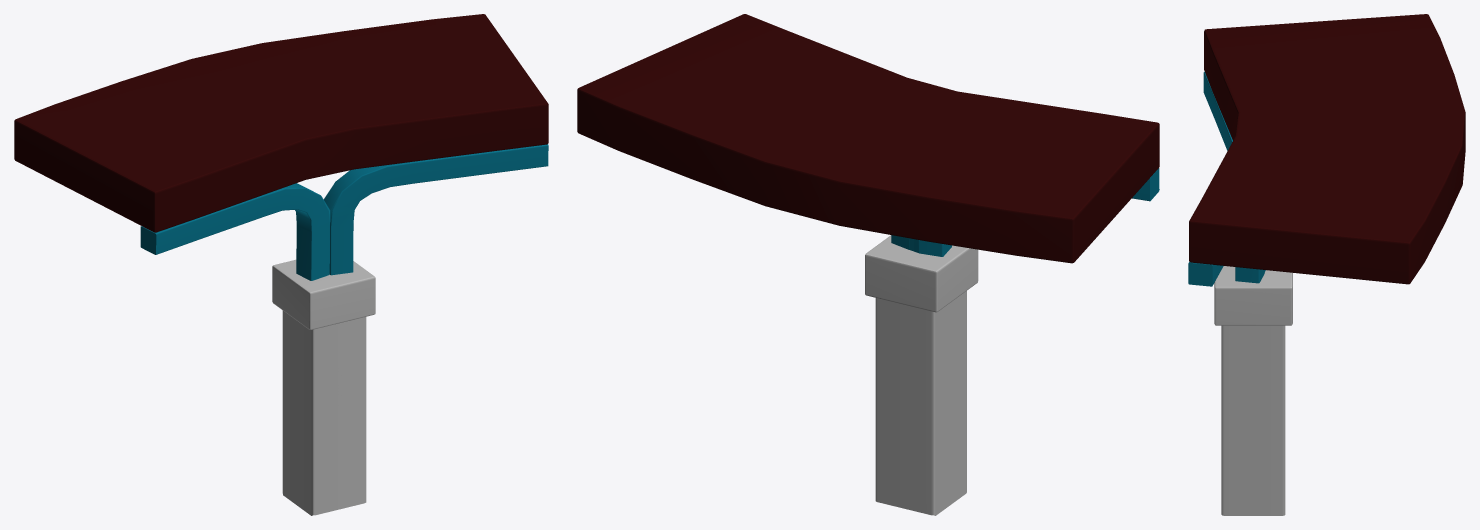
Rendered from pillar_platform.fbx.
3 renders of one model, left to right at view 1: azimuth 30°, elevation 25°; view 2: azimuth 150°, elevation 25°; view 3: azimuth 270°, elevation 25°, orthographic. The views are drawn at different scales.
Parts seen in each view (by area): view 1: platform, pillar, arch, pillar_holder; view 2: platform, pillar, pillar_holder, arch; view 3: platform, pillar, pillar_holder, arch.
Boxes of the visible parts, x1,y1,x2,y2 form: platform: (14, 14, 548, 232); pillar: (282, 310, 366, 515); arch: (140, 144, 548, 280); pillar_holder: (272, 259, 375, 329); platform: (577, 14, 1159, 263); pillar: (875, 291, 966, 515); pillar_holder: (865, 235, 978, 312); arch: (891, 168, 1159, 256); platform: (1189, 14, 1465, 284); pillar: (1221, 325, 1285, 515); pillar_holder: (1214, 266, 1292, 325); arch: (1188, 71, 1265, 286).
Size of the model in its own units: 6.93 by 5.33 by 3.54.
